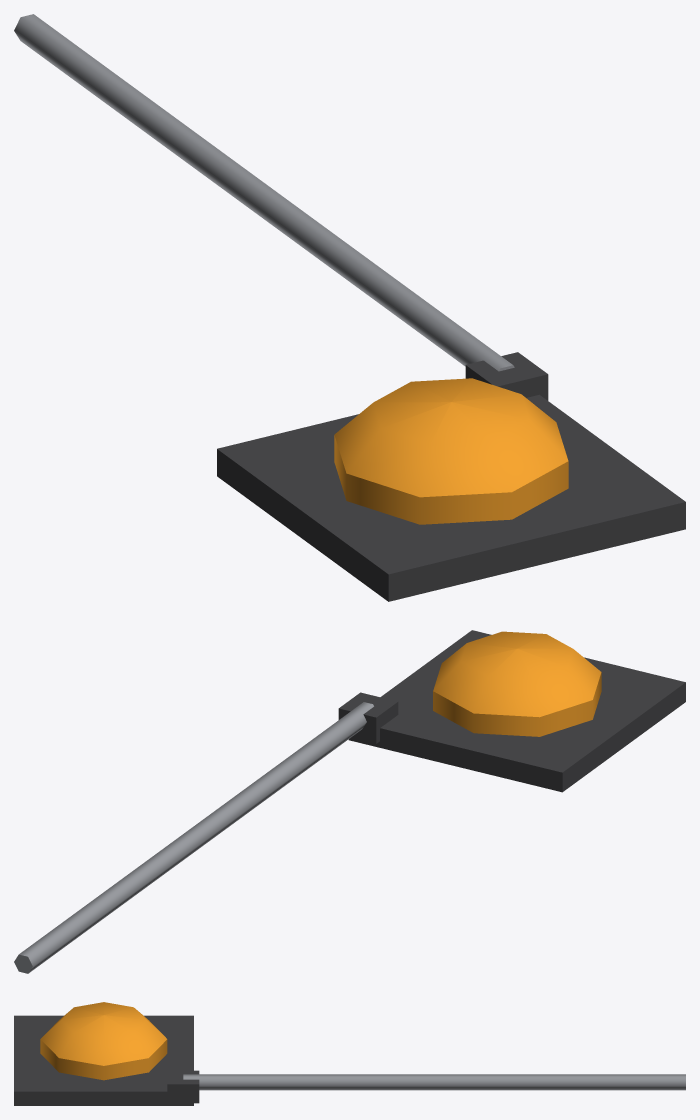
Rendered from boat20_beacon.obj.
The picture shows the model from 3 angles, top to bottom: view 1: azimuth 30°, elevation 25°; view 2: azimuth 150°, elevation 25°; view 3: azimuth 270°, elevation 25°; orthographic projection. The views are drawn at different scales.
Parts seen in each view (by area): view 1: boat20_beacon; view 2: boat20_beacon; view 3: boat20_beacon.
Boxes of the visible parts, x1,y1,x2,y2 form: boat20_beacon: (14, 14, 685, 601); boat20_beacon: (14, 630, 685, 973); boat20_beacon: (14, 1002, 685, 1105).
Bounding box in the file's own units: 0.35 × 0.11 × 1.27.
